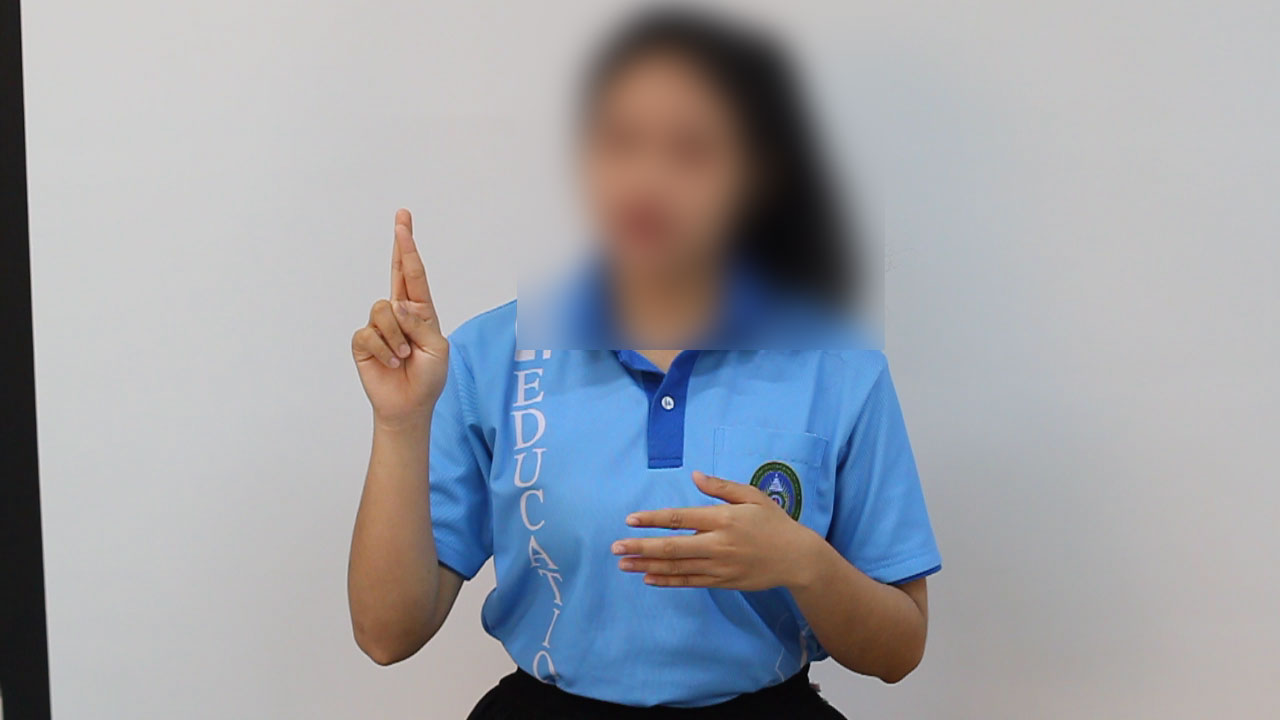rao: (333, 203, 472, 445)
